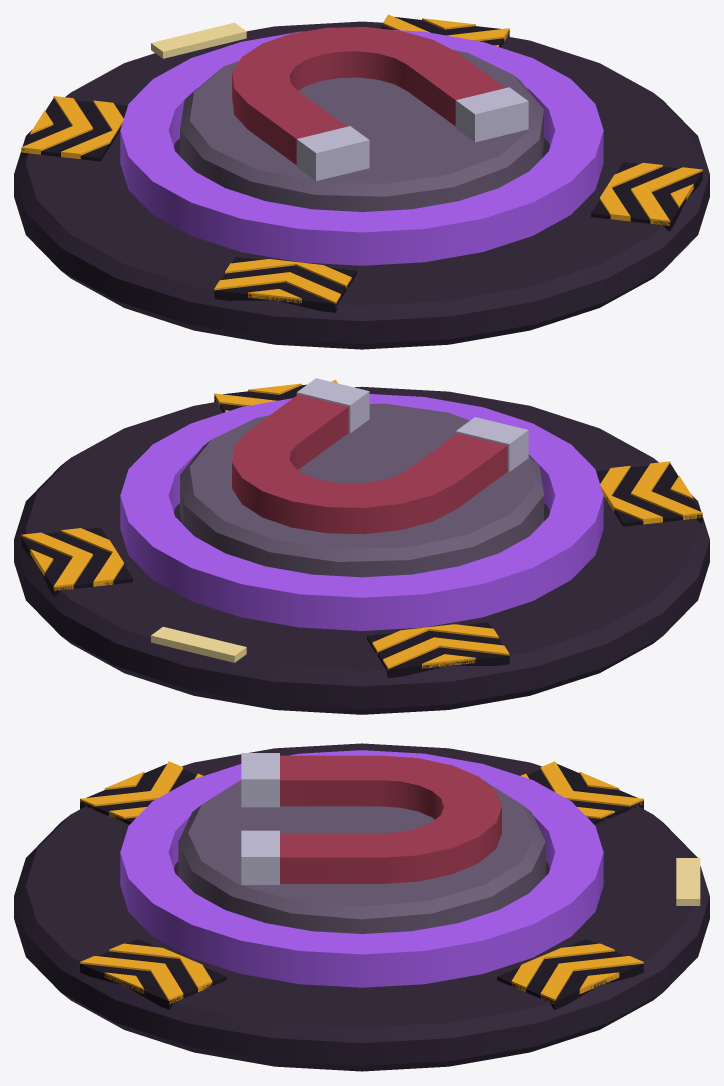
File: trap_magnet__lower.glb
3 views of the same model, one above another, from view 1: azimuth 30°, elevation 25°; view 2: azimuth 150°, elevation 25°; view 3: azimuth 270°, elevation 25° (orthographic).
Parts seen in each view (by area): view 1: Base, Coil; view 2: Base, Coil; view 3: Base, Coil.
Boxes of the visible parts, <box> form: Base: <box>14,14,709,349</box>; Coil: <box>120,30,603,265</box>; Base: <box>14,378,709,714</box>; Coil: <box>120,394,603,630</box>; Base: <box>14,743,709,1071</box>; Coil: <box>120,750,603,987</box>.
Size of what is drawn, in the model's own units: 0.72 by 0.142 by 0.72.
